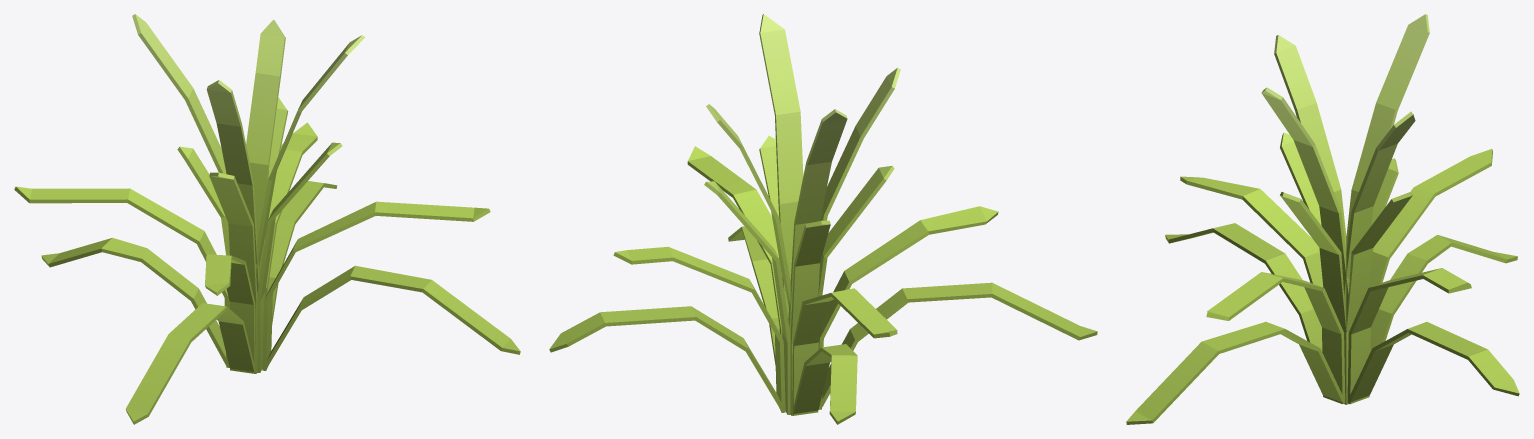
Rendered from Plant3.fbx.
3 renders of one model, left to right at view 1: azimuth 30°, elevation 25°; view 2: azimuth 150°, elevation 25°; view 3: azimuth 270°, elevation 25°, orthographic.
Parts seen in each view (by area): view 1: Plant_3_Plane; view 2: Plant_3_Plane; view 3: Plant_3_Plane.
Part boxes in pixels (bbox=[...]): Plant_3_Plane: bbox=[14, 14, 520, 424]; Plant_3_Plane: bbox=[549, 14, 1097, 424]; Plant_3_Plane: bbox=[1126, 14, 1519, 424].
Size of the model in its own units: 109 by 94.37 by 97.24.
